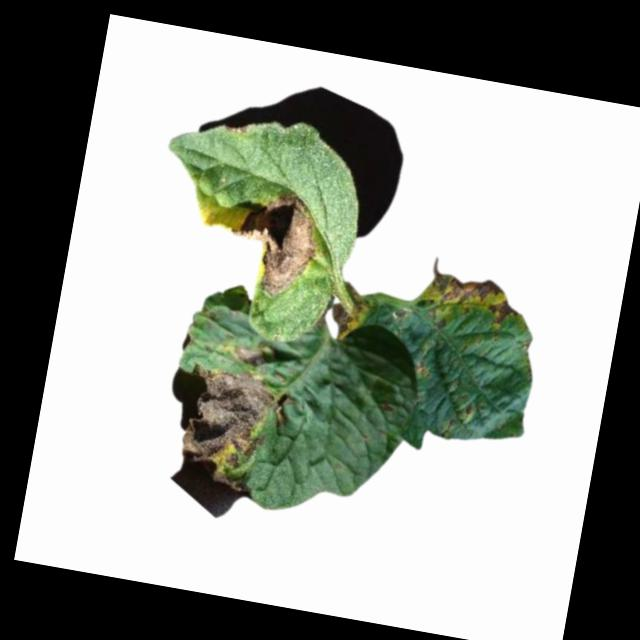Early_blight: (168, 365, 296, 502), (220, 185, 325, 303), (410, 268, 524, 331), (325, 285, 367, 344), (228, 344, 265, 367)
